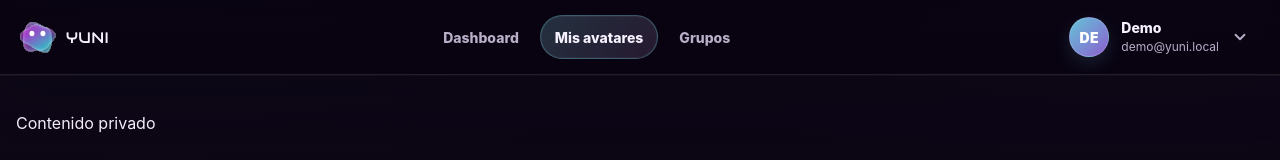
PrivateAreaLayout session gate › stays on the private page when logout fails
The width and height of the screenshot is (1280, 160).
Step 1. Click the button with aria-label "Abrir menú de perfil de Demo" → [1162, 37], box [1064,12,1260,62]
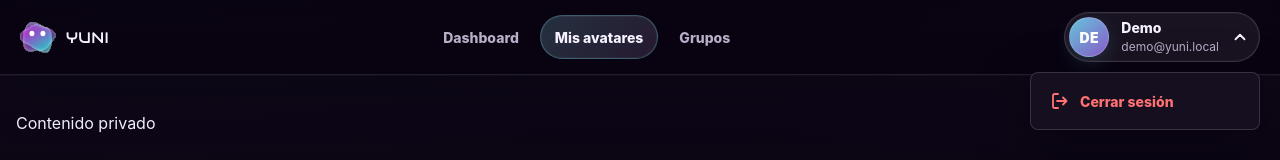
Step 2. Click the menu item "Cerrar sesión" → [1145, 101], box [1037,79,1253,123]
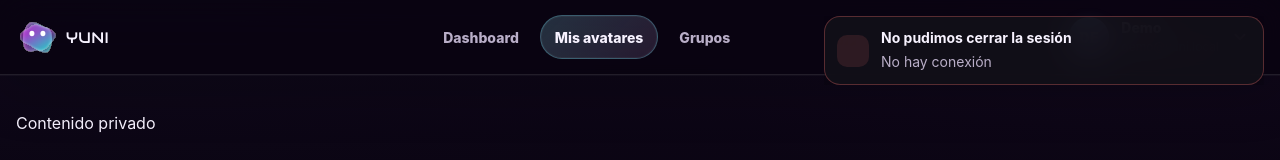
Now the text "No pudimos cerrar la sesión" is shown, box [881,29,1072,46]
